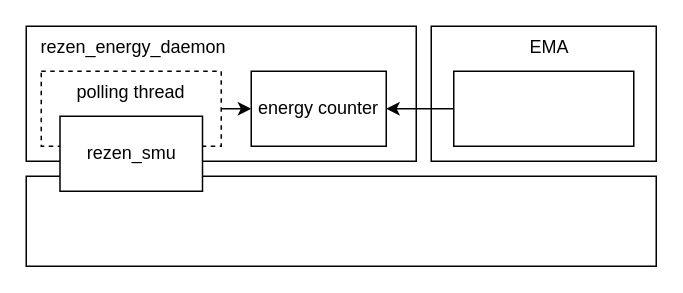
Some shapes in this 683 by 293 pixel diagram are drawn without their labels. Here are the shapes that lost their labels. From the top down, the box of each, then its label:
(452, 70, 634, 146): ryzen_plugin
(25, 175, 656, 266): Kernel Space
